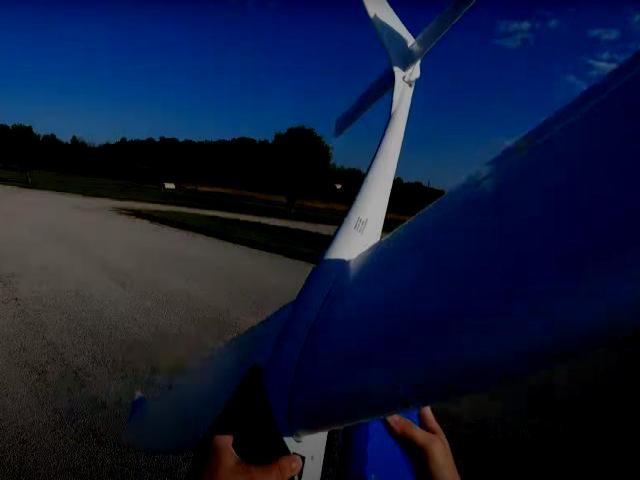iha: (120, 0, 640, 475)
